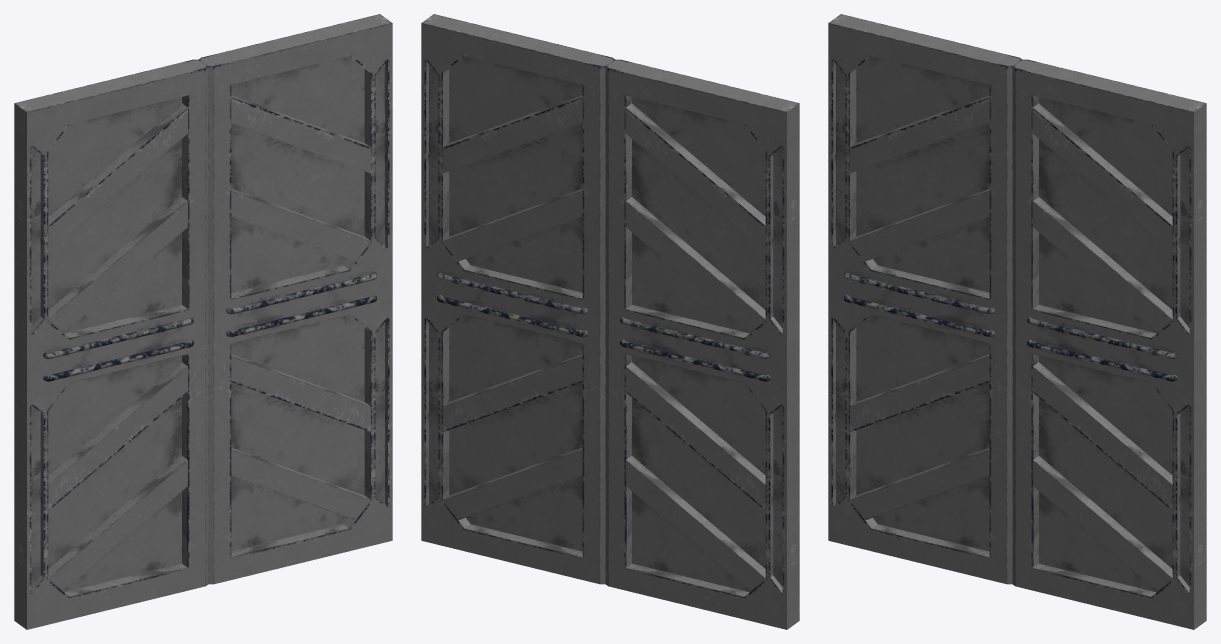
Rendered from LabDoor.fbx.
3 views of the same model, side by side, from view 1: azimuth 30°, elevation 25°; view 2: azimuth 150°, elevation 25°; view 3: azimuth 330°, elevation 25° (orthographic).
Visible parts, largest first — view 1: DoorBaseLeft, DoorBaseRight, CubeTopLeft, CubeBottomLeft, CubeTopRight, CubeBottomRight, CylinderLeft, CylinderRight; view 2: DoorBaseLeft, DoorBaseRight, CubeTopLeft, CubeBottomLeft, CubeTopRight, CubeBottomRight, CylinderLeft, CylinderRight; view 3: DoorBaseRight, DoorBaseLeft, CubeTopRight, CubeBottomRight, CubeTopLeft, CubeBottomLeft, CylinderRight, CylinderLeft.
Boxes of the visible parts, x1,y1,x2,y2 form: DoorBaseLeft: [14, 59, 208, 629]; DoorBaseRight: [199, 14, 392, 584]; CubeTopLeft: [48, 103, 187, 332]; CubeBottomLeft: [48, 362, 187, 591]; CubeTopRight: [231, 95, 370, 261]; CubeBottomRight: [231, 354, 370, 520]; CylinderLeft: [43, 317, 194, 381]; CylinderRight: [226, 272, 376, 336]; DoorBaseLeft: [605, 59, 799, 629]; DoorBaseRight: [421, 14, 614, 584]; CubeTopLeft: [626, 103, 765, 332]; CubeBottomLeft: [626, 362, 765, 591]; CubeTopRight: [443, 95, 582, 261]; CubeBottomRight: [443, 354, 582, 520]; CylinderLeft: [619, 317, 770, 381]; CylinderRight: [437, 272, 587, 336]; DoorBaseRight: [1012, 59, 1206, 629]; DoorBaseLeft: [828, 14, 1021, 584]; CubeTopRight: [1033, 103, 1172, 332]; CubeBottomRight: [1033, 362, 1172, 591]; CubeTopLeft: [850, 95, 989, 261]; CubeBottomLeft: [850, 354, 989, 520]; CylinderRight: [1026, 317, 1177, 381]; CylinderLeft: [844, 272, 994, 336].
Bounding box in the file's own units: 170 × 230 × 15.01.
